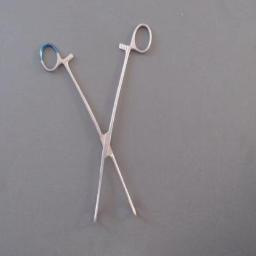Sponge Forceps: (34, 18, 156, 228)
